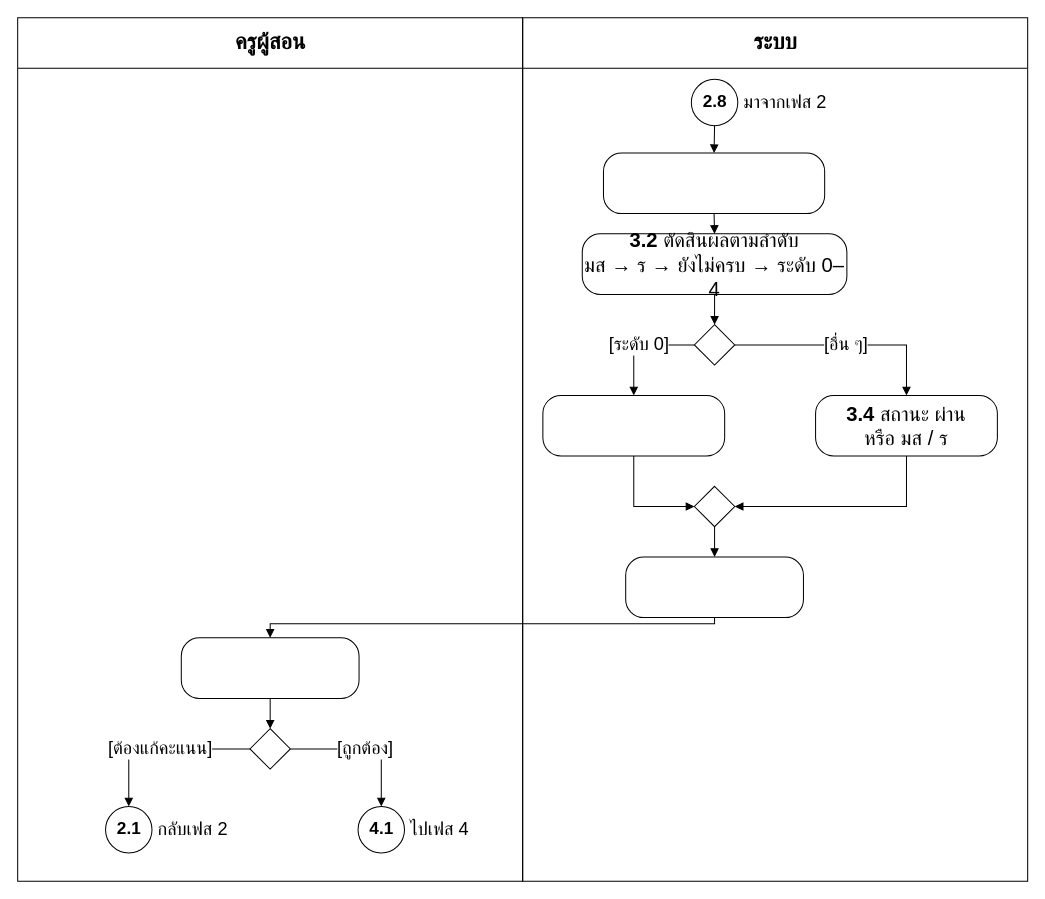
This 1045x899 diagram has some shape labels left out. Each missing label, with the centre of its shape:
3.1 ดึงคะแนนทุกองค์ประกอบ เวลาเรียน และผลสอบซ่อม: (713,183)
3.3 สถานะ “มีสิทธิ์สอบซ่อม”: (633,425)
3.5 บันทึกผลการเรียน และเวลาที่คำนวณ: (714,587)
3.6 ตรวจผลการเรียน ของนักเรียนทุกคน: (269,667)
